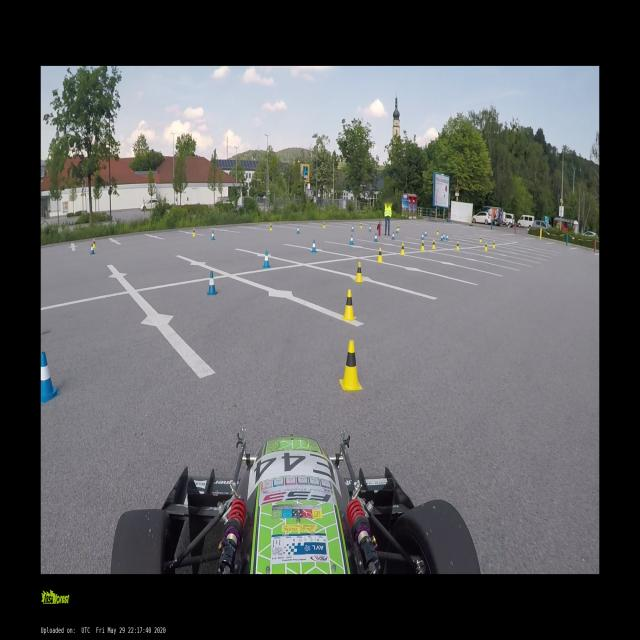blue_cone: (41, 354, 60, 404), (206, 271, 217, 296), (262, 250, 270, 268), (348, 235, 354, 246), (311, 240, 316, 253), (373, 232, 378, 243), (210, 230, 214, 241), (90, 245, 94, 255), (423, 230, 428, 238), (296, 226, 300, 234), (442, 232, 446, 240), (395, 226, 399, 234), (440, 232, 443, 241), (391, 232, 394, 240), (421, 232, 424, 240), (446, 233, 448, 241), (351, 226, 354, 231), (368, 226, 371, 231)
yellow_cone: (340, 339, 362, 392), (342, 289, 357, 320), (354, 261, 364, 283), (377, 247, 382, 263), (400, 242, 405, 255), (420, 239, 424, 252), (431, 239, 436, 249), (91, 239, 96, 248), (455, 241, 459, 250), (192, 228, 196, 237), (483, 242, 487, 251), (322, 221, 326, 229), (359, 222, 363, 229), (492, 240, 495, 249), (269, 223, 272, 232), (440, 232, 443, 241), (479, 235, 482, 243), (435, 229, 439, 235), (396, 225, 400, 231), (396, 226, 399, 232)
